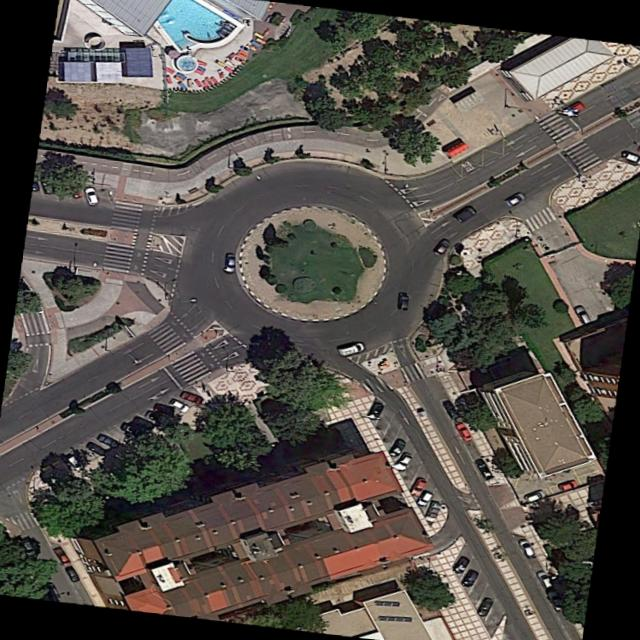small-vehicle: (337, 341, 366, 356), (64, 179, 84, 198), (476, 457, 493, 479), (366, 401, 385, 420), (132, 415, 156, 430), (121, 422, 144, 437), (518, 539, 536, 558), (408, 477, 426, 496), (39, 175, 55, 196), (44, 582, 61, 601), (461, 568, 477, 588), (454, 208, 475, 223), (169, 398, 190, 413), (476, 598, 493, 616), (536, 570, 553, 588), (395, 453, 412, 471), (453, 556, 469, 575), (19, 537, 35, 556), (575, 305, 591, 324), (54, 548, 71, 565), (442, 401, 458, 419), (432, 240, 450, 256), (67, 455, 85, 471), (456, 423, 472, 441), (180, 390, 203, 402), (145, 410, 168, 422), (417, 490, 433, 507), (548, 591, 564, 608), (87, 441, 105, 456), (83, 187, 98, 205), (96, 435, 116, 448), (389, 439, 405, 455), (154, 403, 175, 415), (566, 102, 586, 114), (506, 194, 525, 206), (64, 567, 79, 582), (559, 480, 578, 491), (525, 492, 545, 502), (224, 254, 235, 272), (623, 152, 640, 163), (398, 294, 409, 309), (177, 71, 187, 80), (162, 65, 173, 73), (251, 40, 262, 48), (194, 64, 206, 71), (279, 16, 287, 26), (256, 37, 266, 45), (254, 32, 265, 39), (241, 45, 252, 52), (178, 81, 187, 89), (263, 28, 271, 37), (247, 43, 257, 50), (238, 49, 248, 56), (193, 68, 204, 74), (205, 77, 213, 85), (194, 79, 202, 87), (217, 69, 224, 78), (225, 60, 234, 67), (196, 60, 206, 66), (235, 56, 245, 62), (201, 80, 208, 88), (165, 75, 172, 83), (227, 53, 235, 60), (224, 66, 232, 72), (174, 75, 182, 81), (237, 53, 246, 58), (211, 77, 218, 83), (187, 79, 192, 87), (215, 60, 223, 65)
